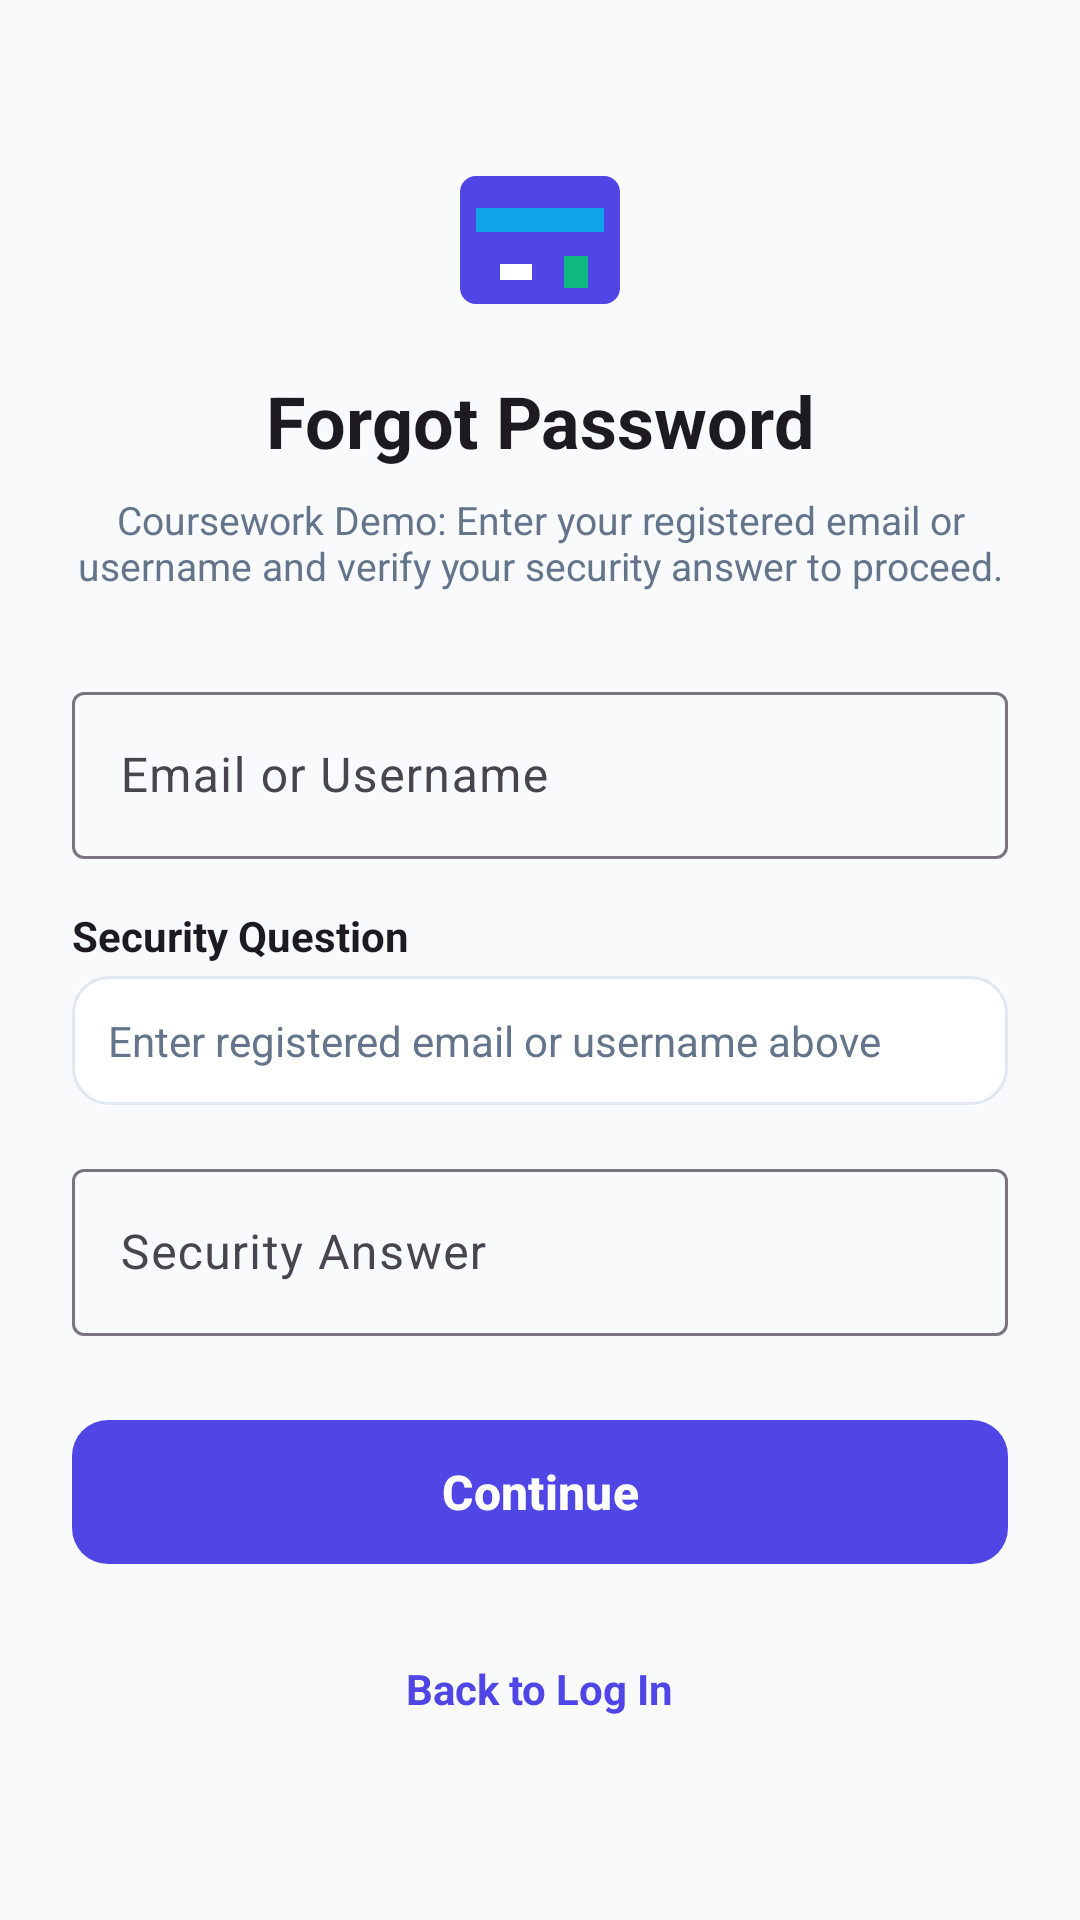

Icons on this 1080x1920 Android screen, each with its box as (x1, y1, x2, y2):
Card Vault: (460, 176, 620, 304)
